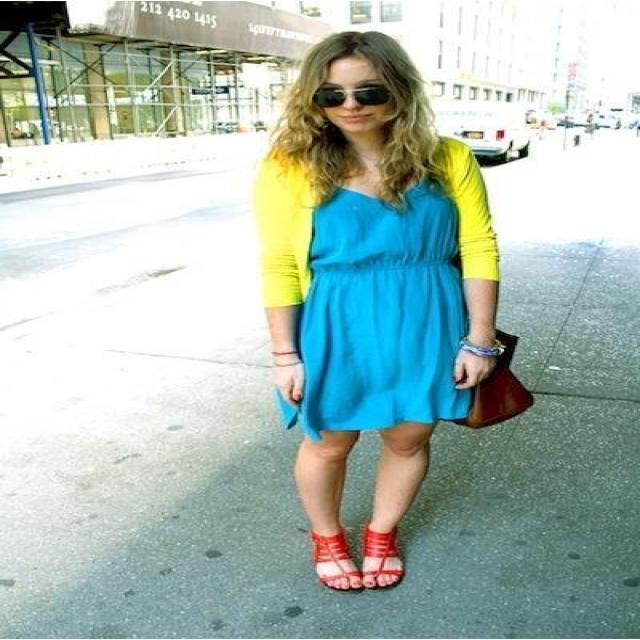bag: (442, 371, 554, 428)
dress: (278, 175, 469, 438)
jacket: (256, 136, 499, 319)
shoe: (310, 524, 400, 586)
sunglass: (309, 82, 395, 115)
